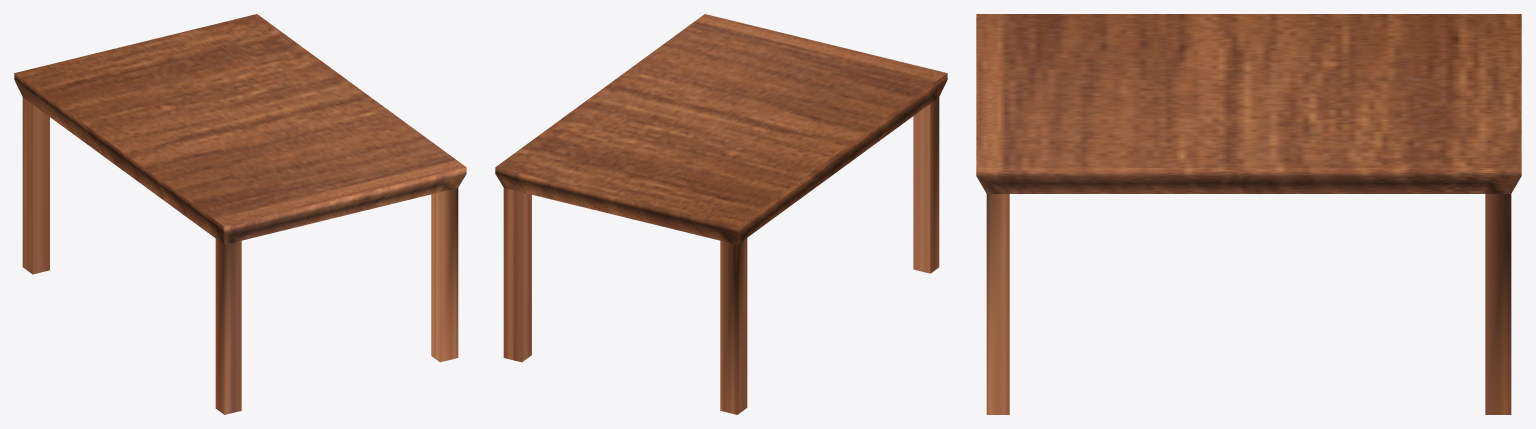
Rendered from WoodenTable.fbx.
The picture shows the model from 3 angles, left to right: view 1: azimuth 30°, elevation 25°; view 2: azimuth 150°, elevation 25°; view 3: azimuth 270°, elevation 25°; orthographic projection. The views are drawn at different scales.
Parts seen in each view (by area): view 1: Cube; view 2: Cube; view 3: Cube.
Part boxes in pixels (box(x1,y1,x2,y2)): Cube: box(14, 14, 466, 414); Cube: box(495, 14, 947, 414); Cube: box(976, 14, 1521, 414).
Size of the model in its own units: 78.49 by 59.37 by 117.
Materials: 1 (1 with a texture image).
